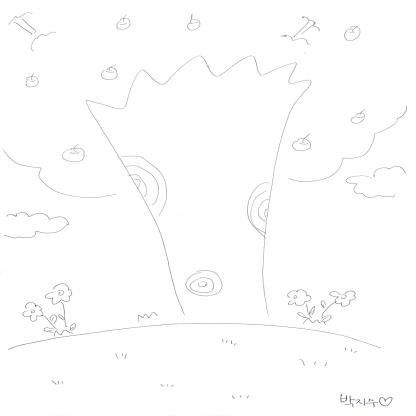apple: (61, 144, 85, 162), (292, 132, 312, 152), (100, 64, 119, 80), (344, 25, 361, 42), (186, 14, 202, 31), (113, 14, 132, 28), (350, 110, 367, 124), (24, 73, 40, 87)
branch_sharp: (85, 55, 312, 129)
knot: (118, 155, 168, 215), (246, 183, 274, 239), (186, 270, 224, 296)
root_none: (161, 302, 288, 368)
trunk_straight: (140, 195, 272, 293)
